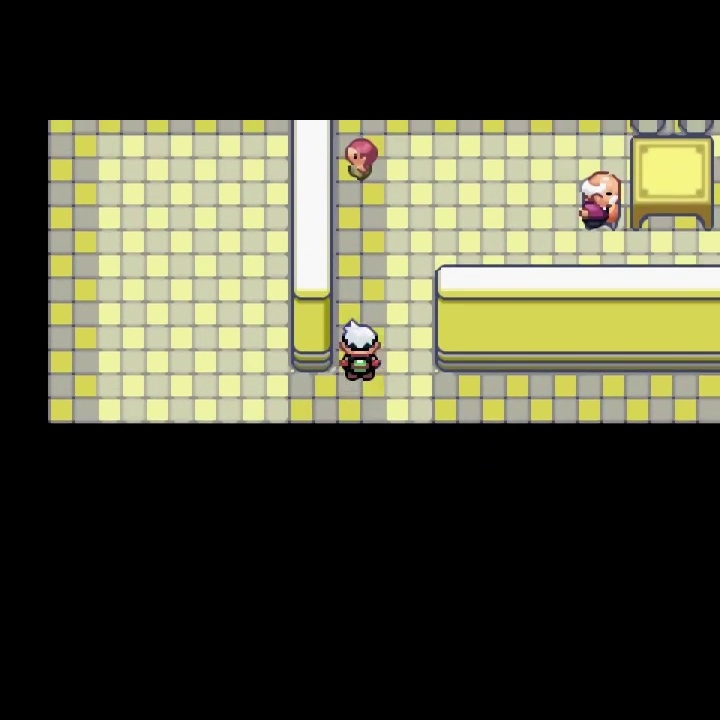npc: (334, 317, 382, 384), (575, 166, 622, 232), (342, 135, 381, 186)
